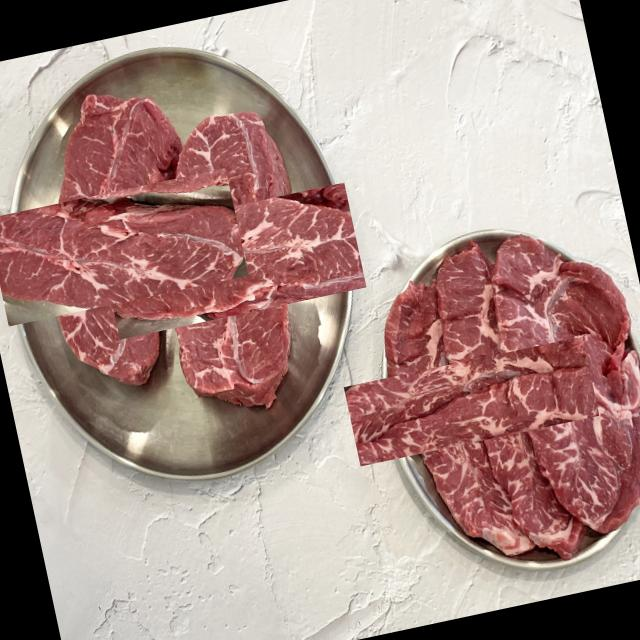beef: (125, 154, 338, 366), (12, 142, 223, 352), (374, 304, 568, 497), (501, 264, 615, 510)
